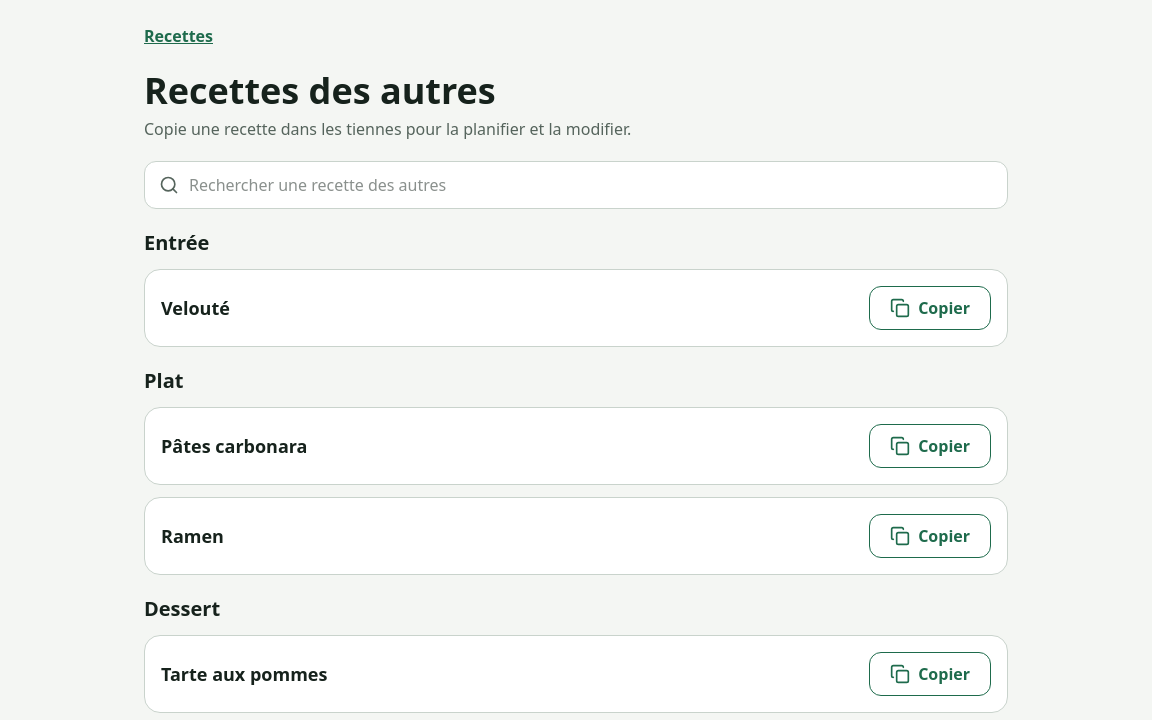
Test: OtherRecipesView : recherche › efface la recherche par le bouton : retour tout de suite aux sections, focus dans le champ
In the search field with placeholder "Rechercher une recette des autres": coordinates (598, 185) 189,165 -> 1007,205, type "tarte"
Wait 300 ms
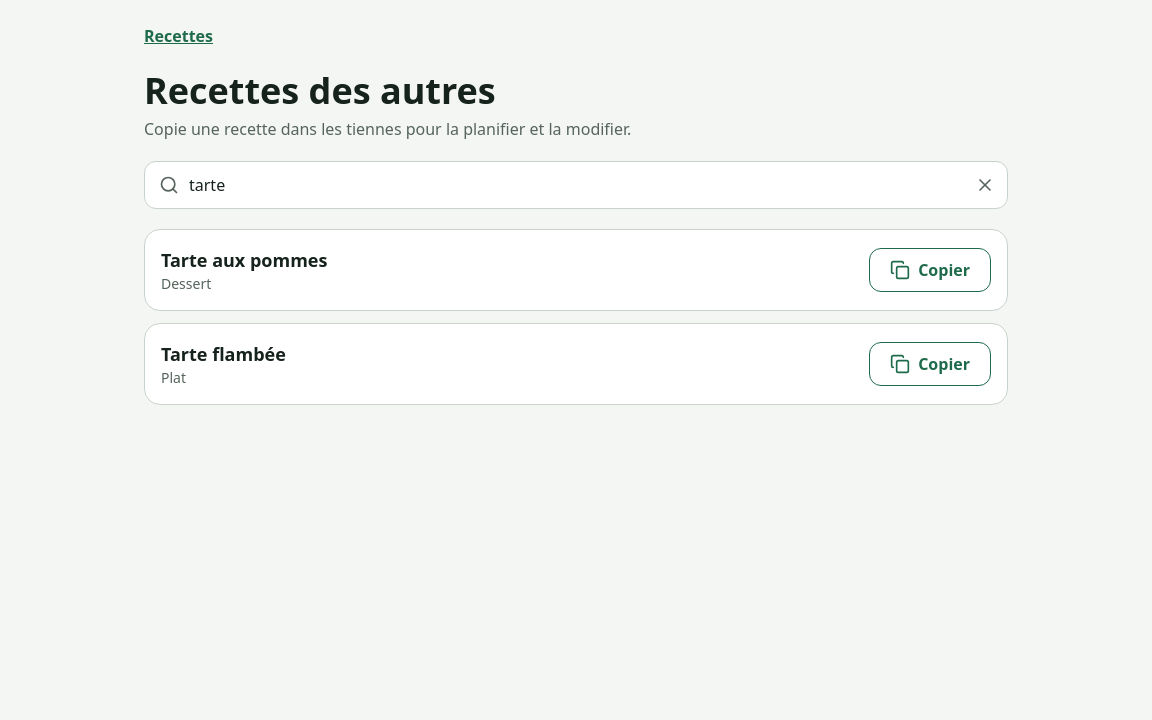
Click the button named "Effacer la recherche": coordinates (985, 185) 963,163 -> 1007,207
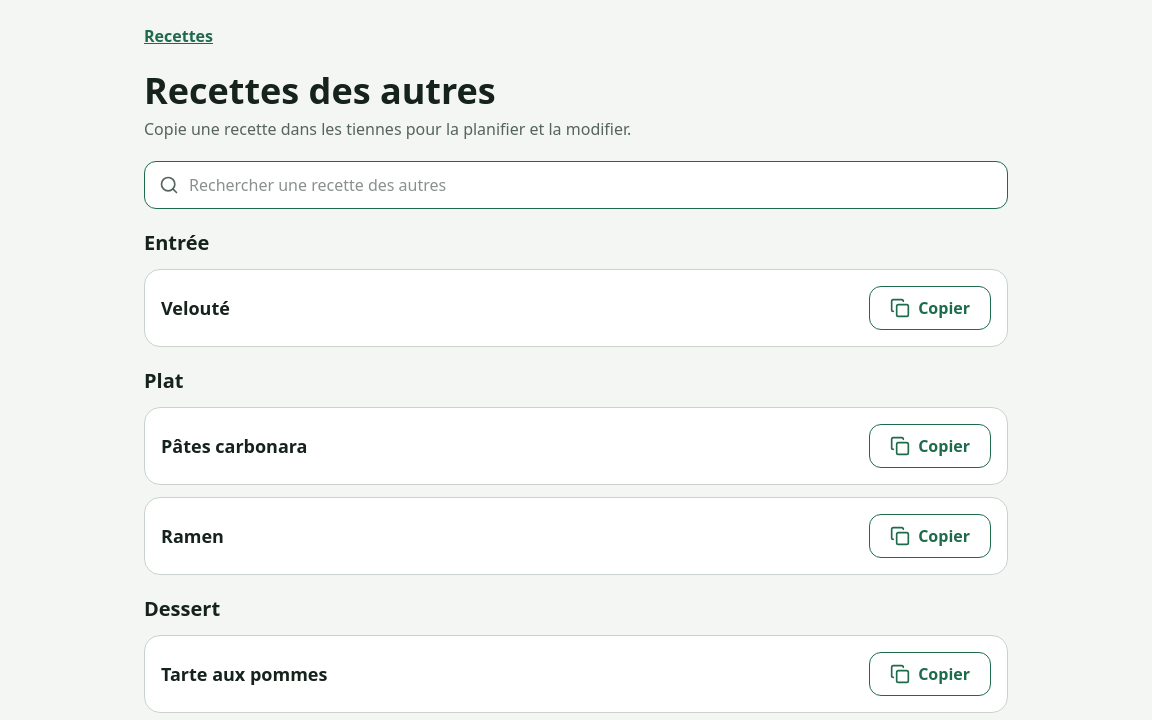
Check: the search field with placeholder "Rechercher une recette des autres" is empty, box 189,165 -> 1007,205
